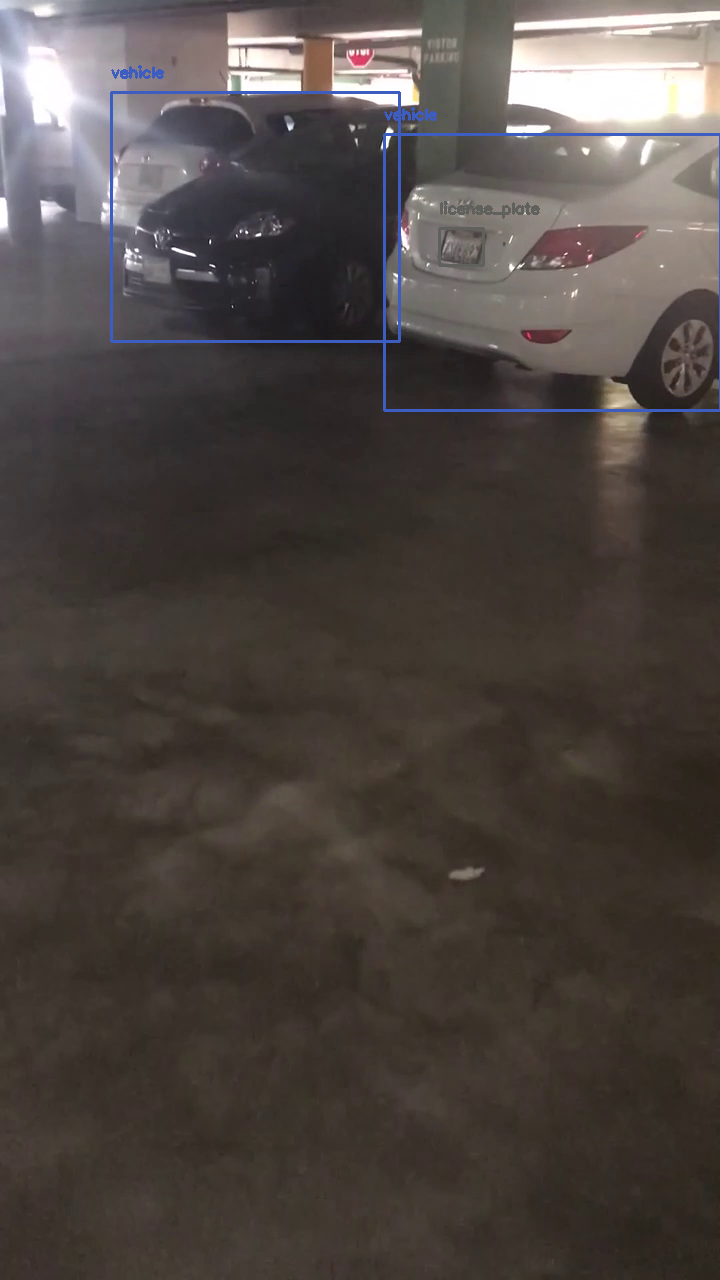license_plate: (439, 228, 483, 265)
vehicle: (384, 134, 720, 410), (111, 92, 399, 341)
